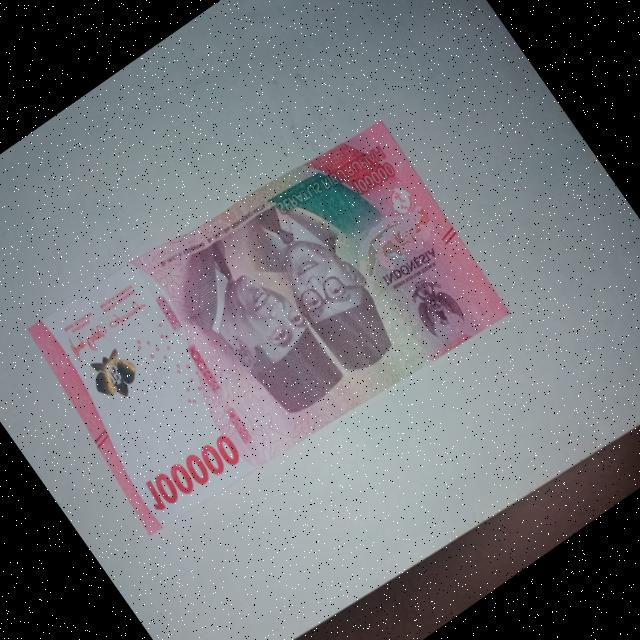100K: (1, 83, 526, 569)
